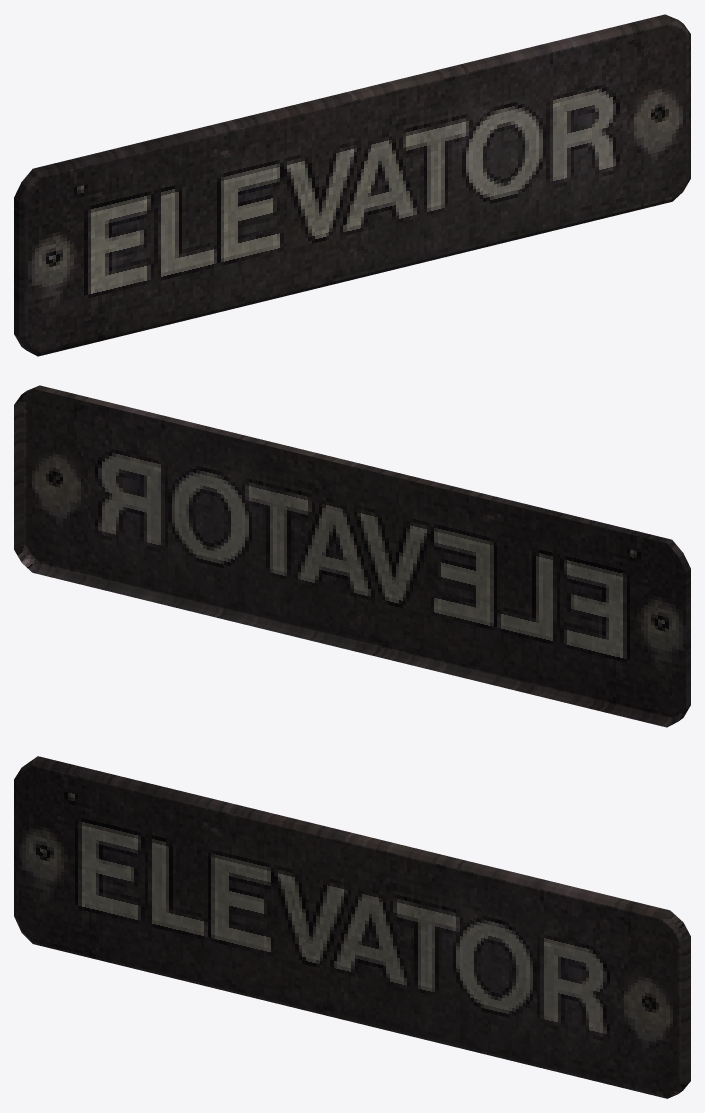
File: elevator_sign_1.glb
3 views of the same model, one above another, from view 1: azimuth 30°, elevation 25°; view 2: azimuth 150°, elevation 25°; view 3: azimuth 330°, elevation 25° (orthographic).
Parts seen in each view (by area): view 1: elevator_sign_1; view 2: elevator_sign_1; view 3: elevator_sign_1.
Part boxes in pixels (left/top/right/bottom): elevator_sign_1: left=14, top=14, right=690, bottom=356; elevator_sign_1: left=14, top=385, right=690, bottom=727; elevator_sign_1: left=14, top=756, right=690, bottom=1098.
Size of the model in its own units: 0.7635 by 0.2 by 0.014.
1 material, 1 textured.
